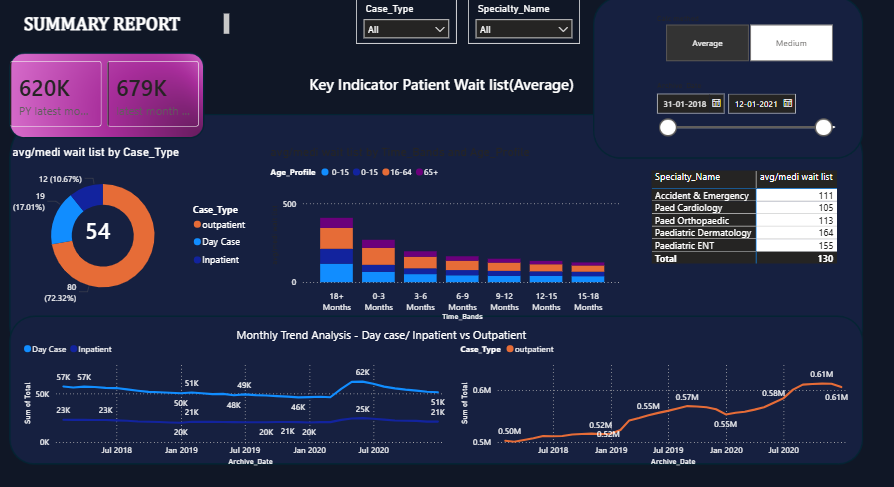

Layout of this report page (visuals, bound fields, positions):
{"tool":"powerbi","page":{"name":"Summary1","canvas":[1280,720],"ordinal":0},"visuals":[{"type":"cardVisual","fields":{"Data":["All_Data.PY latest month wait list","All_Data.latest month wait list"]},"box":[0,72,304,128],"z":0},{"type":"slicer","fields":{"Values":["Table.Calc method"]},"box":[928,16,288,80],"z":1000},{"type":"donutChart","fields":{"Category":["All_Data.Case_Type"],"Y":["All_Data.avg/medi wait list"]},"box":[16,208,352,240],"z":2000},{"type":"columnChart","fields":{"Category":["All_Data.Time_Bands"],"Y":["All_Data.avg/medi wait list"],"Series":["All_Data.Age_Profile"]},"box":[384,208,512,256],"z":3000},{"type":"pivotTable","fields":{"Values":["All_Data.avg/medi wait list"],"Rows":["All_Data.Specialty_Name"]},"box":[928,240,304,192],"z":4000},{"type":"lineChart","fields":{"Y":["Sum(All_Data.Total)"],"Category":["All_Data.Archive_Date"],"Series":["All_Data.Case_Type"]},"box":[32,480,624,192],"z":5000},{"type":"lineChart","fields":{"Y":["Sum(All_Data.Total)"],"Category":["All_Data.Archive_Date"],"Series":["All_Data.Case_Type"]},"box":[656,480,576,192],"z":6000},{"type":"slicer","fields":{"Values":["All_Data.Archive_Date"]},"box":[928,112,288,96],"z":7000},{"type":"slicer","fields":{"Values":["All_Data.Case_Type"]},"box":[512,0,144,64],"z":8000},{"type":"slicer","fields":{"Values":["All_Data.Specialty_Name"]},"box":[672,0,160,64],"z":9000},{"type":"textbox","box":[32,16,304,48],"z":10000},{"type":"cardVisual","fields":{"Data":["All_Data.avg/medi wait list"]},"box":[96,240,176,176],"z":11000},{"type":"cardVisual","fields":{"Data":["All_Data.Dynamic title"]},"box":[416,80,448,80],"z":12000},{"type":"textbox","box":[336,464,464,32],"z":13000}]}

Visuals, with their boxes on the page's 1280x720 design canvas (x1, y1, x2, y2). These are canvas units, not pixel positions in the 894x487 screenshot, which may show the page scaled, cropped or inside an application window:
cardVisual - All_Data.PY latest month wait list x All_Data.latest month wait list: rect(0, 72, 304, 200)
slicer - Table.Calc method: rect(928, 16, 1216, 96)
donutChart - All_Data.Case_Type x All_Data.avg/medi wait list: rect(16, 208, 368, 448)
columnChart - All_Data.Time_Bands x All_Data.avg/medi wait list: rect(384, 208, 896, 464)
pivotTable - All_Data.avg/medi wait list x All_Data.Specialty_Name: rect(928, 240, 1232, 432)
lineChart - Sum(All_Data.Total) x All_Data.Archive_Date: rect(32, 480, 656, 672)
lineChart - Sum(All_Data.Total) x All_Data.Archive_Date: rect(656, 480, 1232, 672)
slicer - All_Data.Archive_Date: rect(928, 112, 1216, 208)
slicer - All_Data.Case_Type: rect(512, 0, 656, 64)
slicer - All_Data.Specialty_Name: rect(672, 0, 832, 64)
textbox: rect(32, 16, 336, 64)
cardVisual - All_Data.avg/medi wait list: rect(96, 240, 272, 416)
cardVisual - All_Data.Dynamic title: rect(416, 80, 864, 160)
textbox: rect(336, 464, 800, 496)
